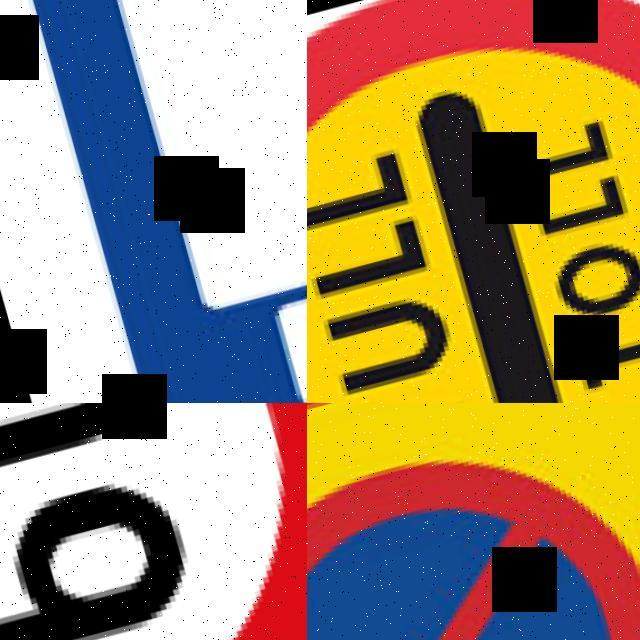69: (0, 0, 307, 403)
82: (307, 403, 640, 640)
Stop at customs: (307, 0, 640, 403)
speed limit-60: (0, 403, 307, 640)
